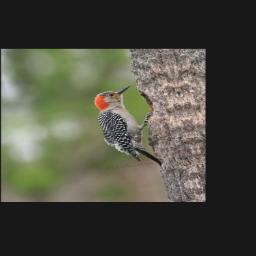Woodpecker: (83, 81, 167, 177)
